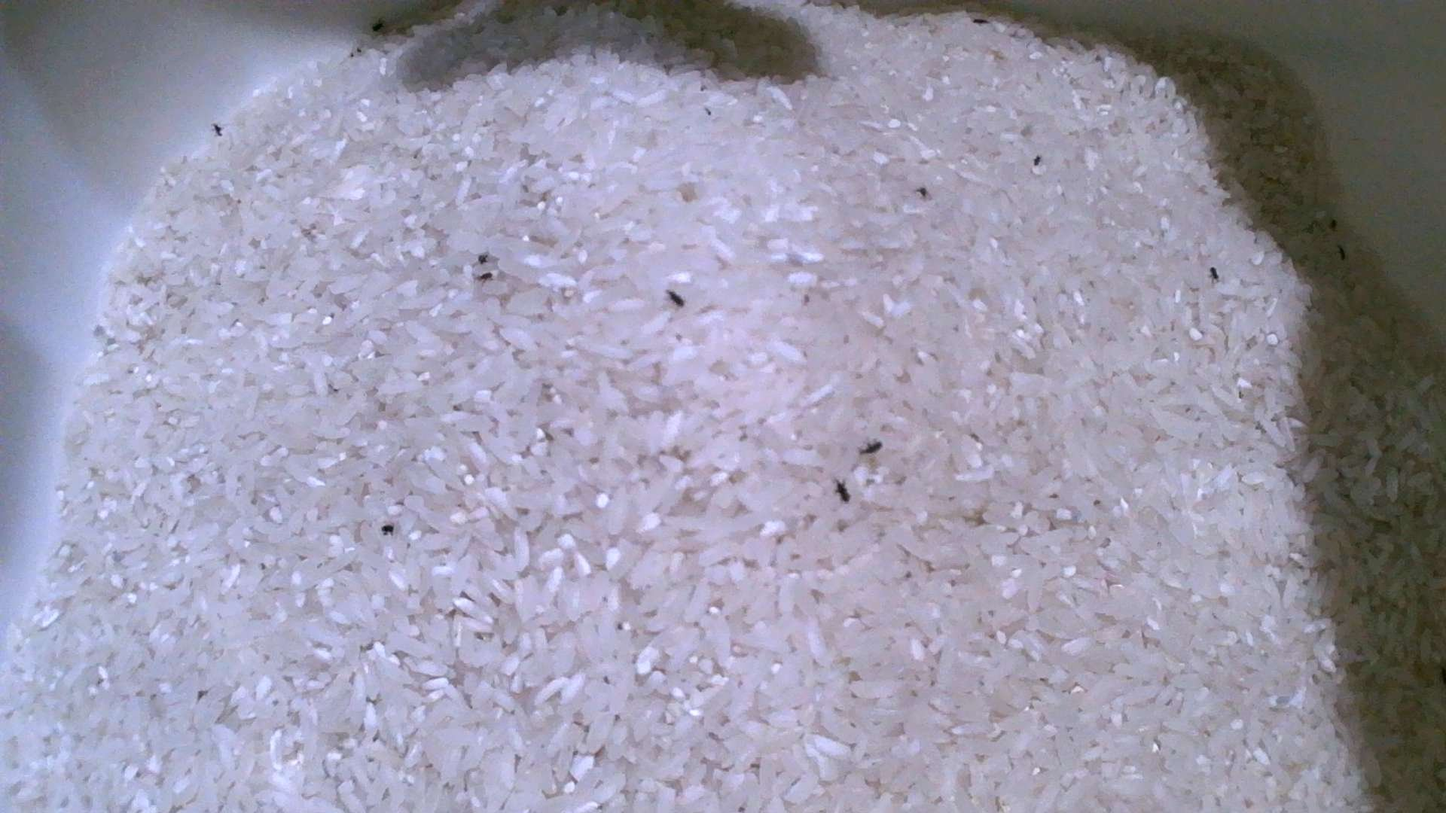Sitophilus-Oryzae: (834, 480, 851, 503), (860, 440, 882, 454), (667, 290, 685, 307), (1209, 266, 1219, 282), (212, 122, 222, 136), (478, 271, 492, 280), (1033, 155, 1042, 166)
